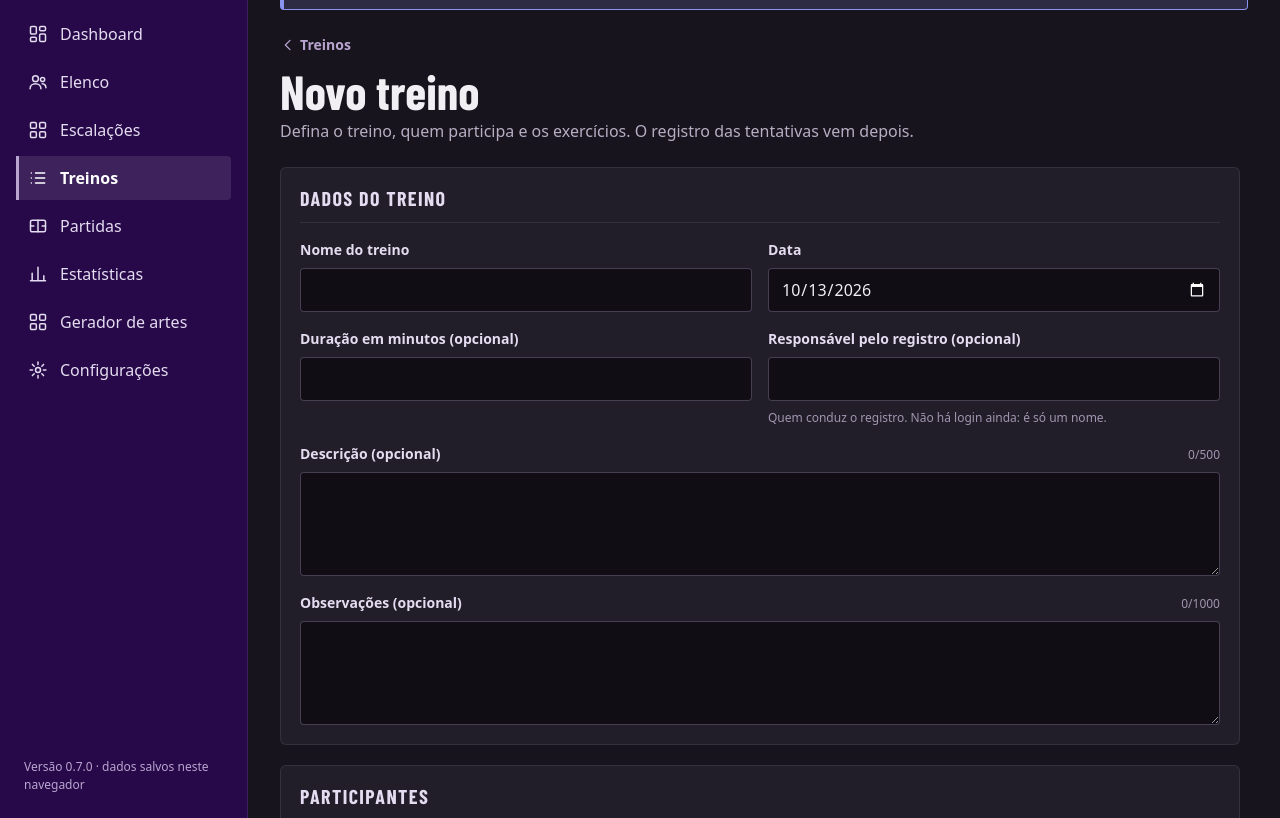
it: Criar treino › o treino criado aparece na lista e pode receber registros logo em seguida
Check: the heading "Novo treino" is shown, box 280,62 -> 479,120
Type "Treino novo" into the field labelled "Nome do treino" at (526, 290), box 300,268 -> 752,312
(page scrolled)
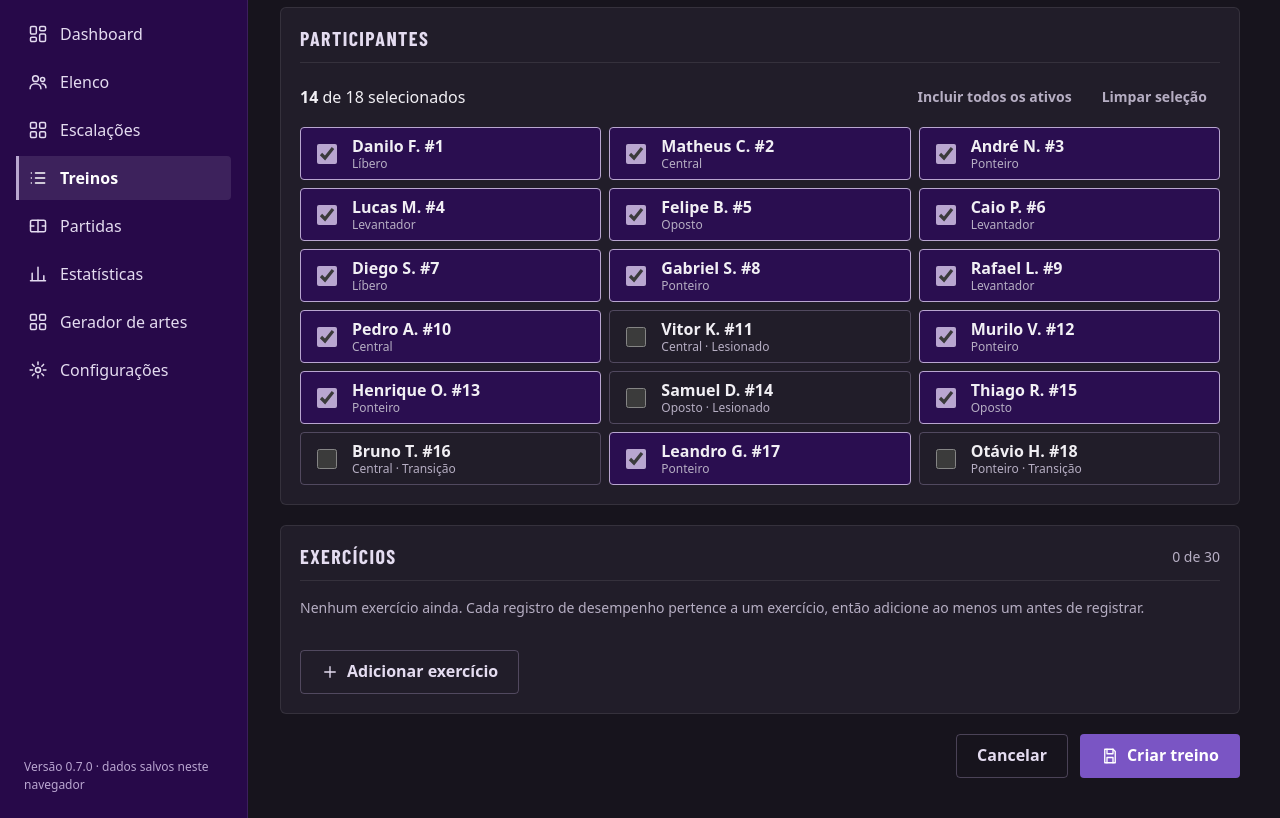
Click the button "Adicionar exercício" at (410, 672), box 300,650 -> 519,694
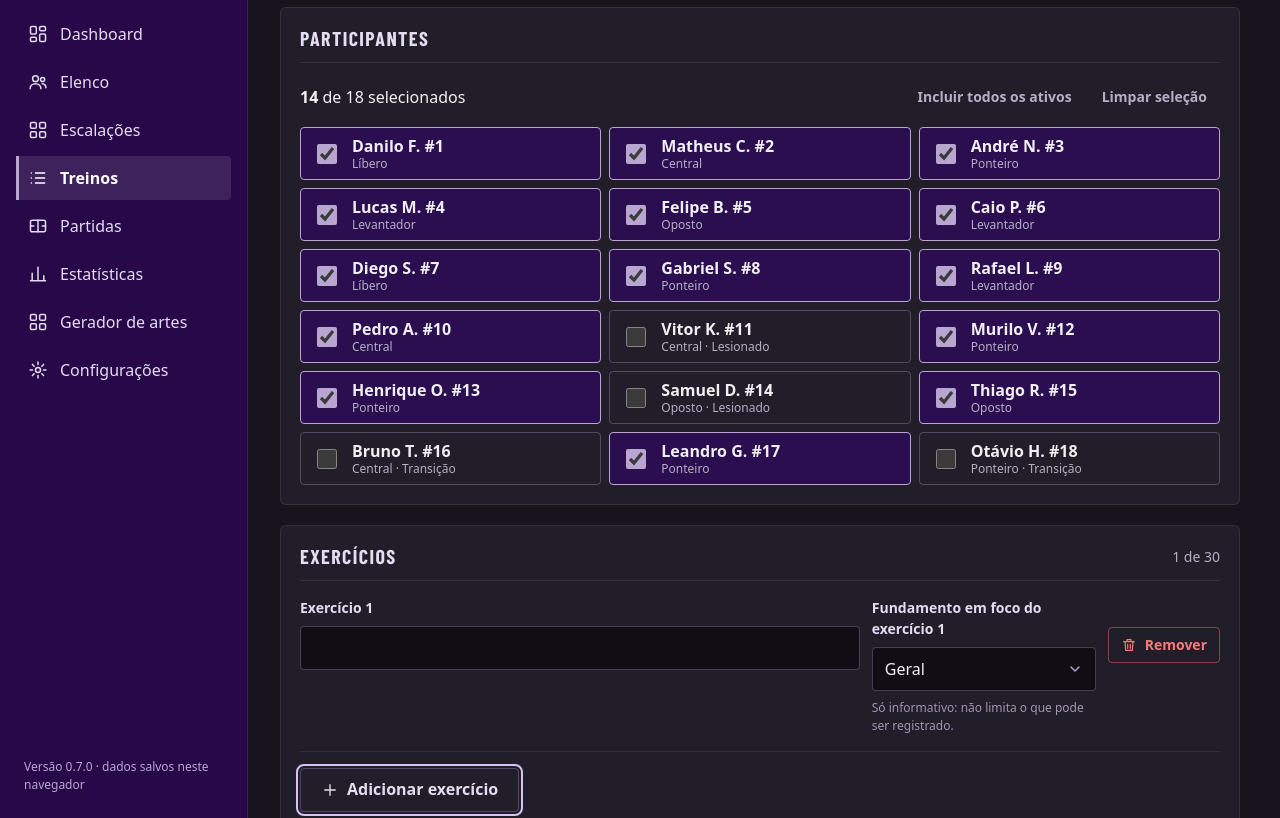
Type "Saque" into the field labelled "Exercício 1" at (580, 648), box 300,626 -> 860,670
(page scrolled)
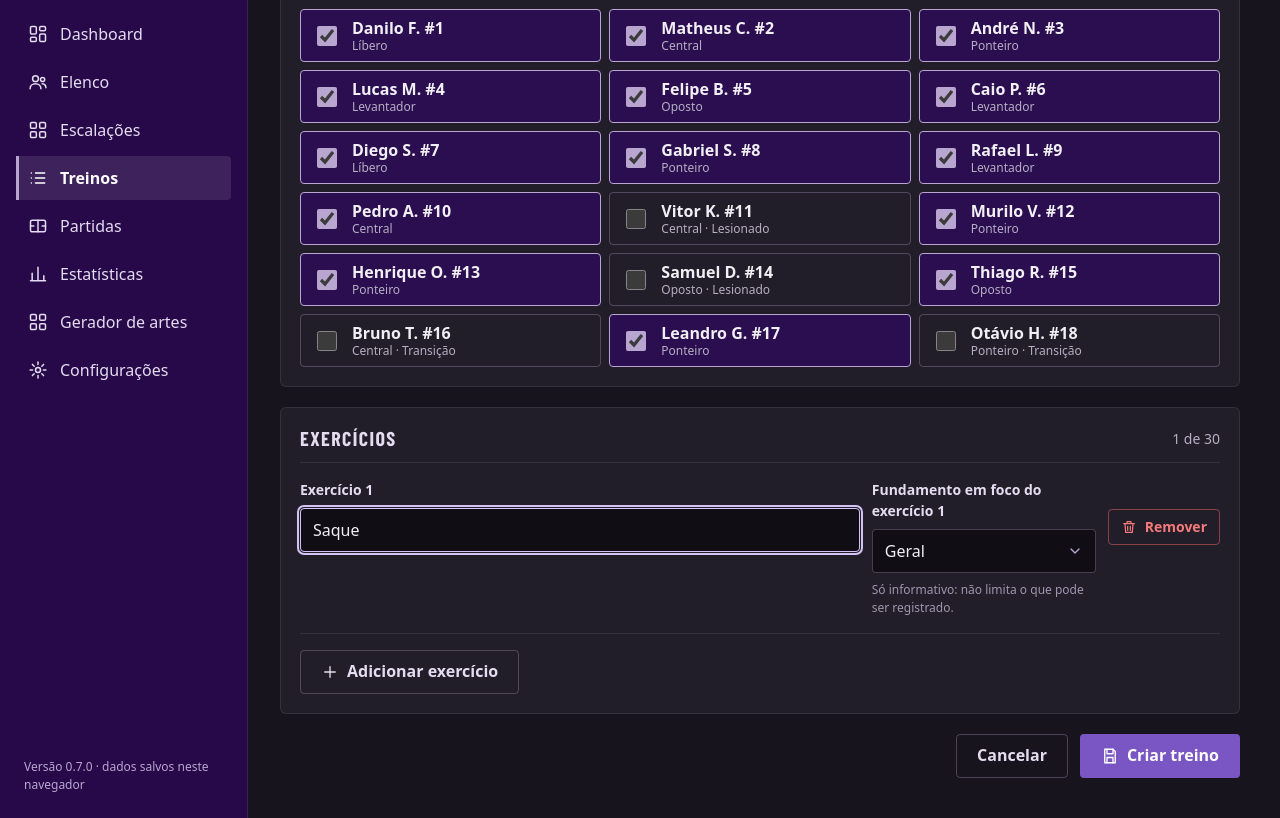
Click the button "Criar treino" at (1160, 756), box 1080,734 -> 1240,778
(page scrolled)
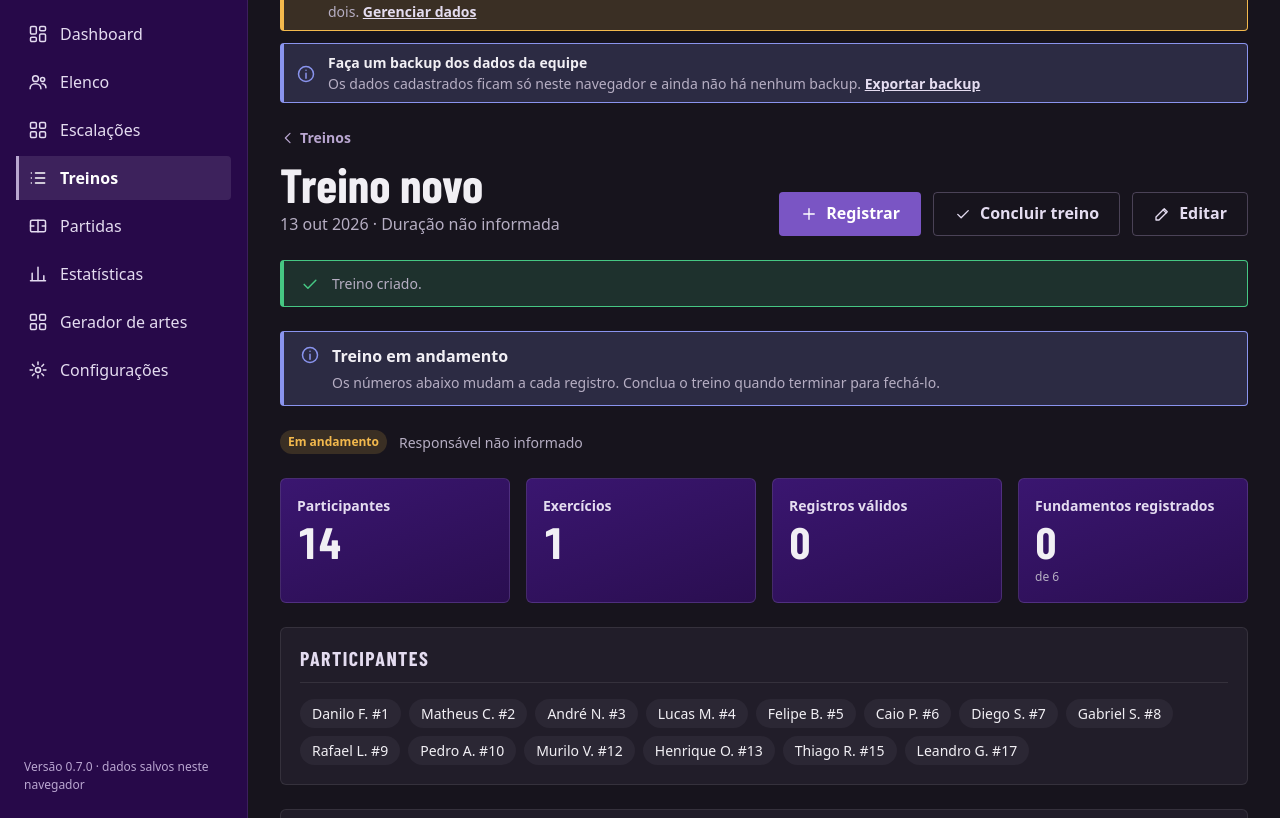
Check: the text "Treino criado." is shown, box 332,274 -> 422,293
Click the link "Registrar" at (850, 214), box 779,192 -> 921,236
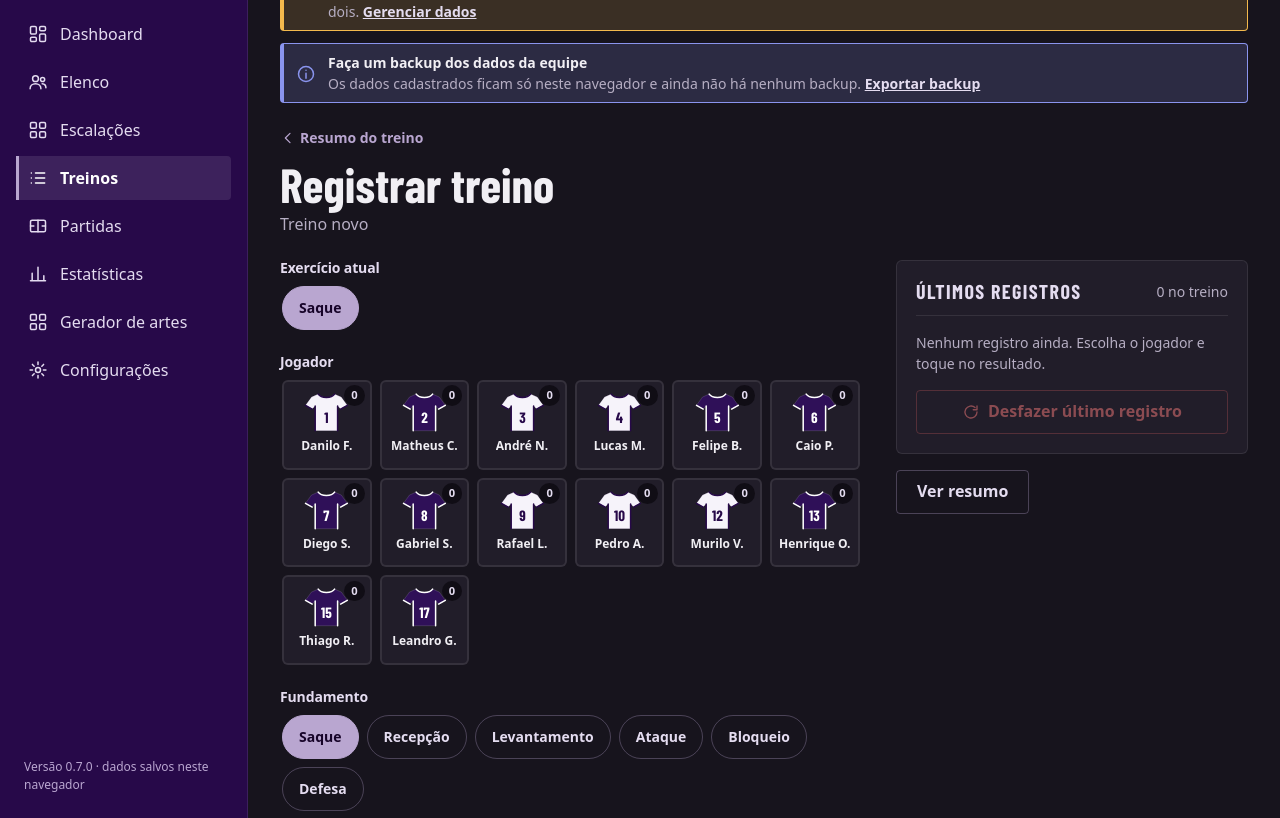
Check: the heading "Registrar treino" is shown, box 280,160 -> 554,208
Check: the button "8 Gabriel S. 0" is shown, box 380,478 -> 469,567
